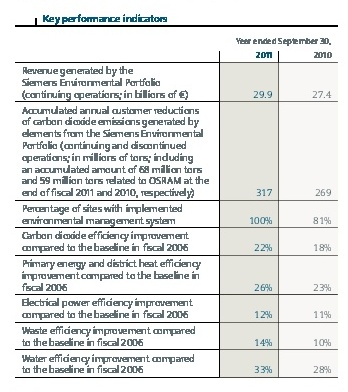table: (0, 0, 348, 392)
